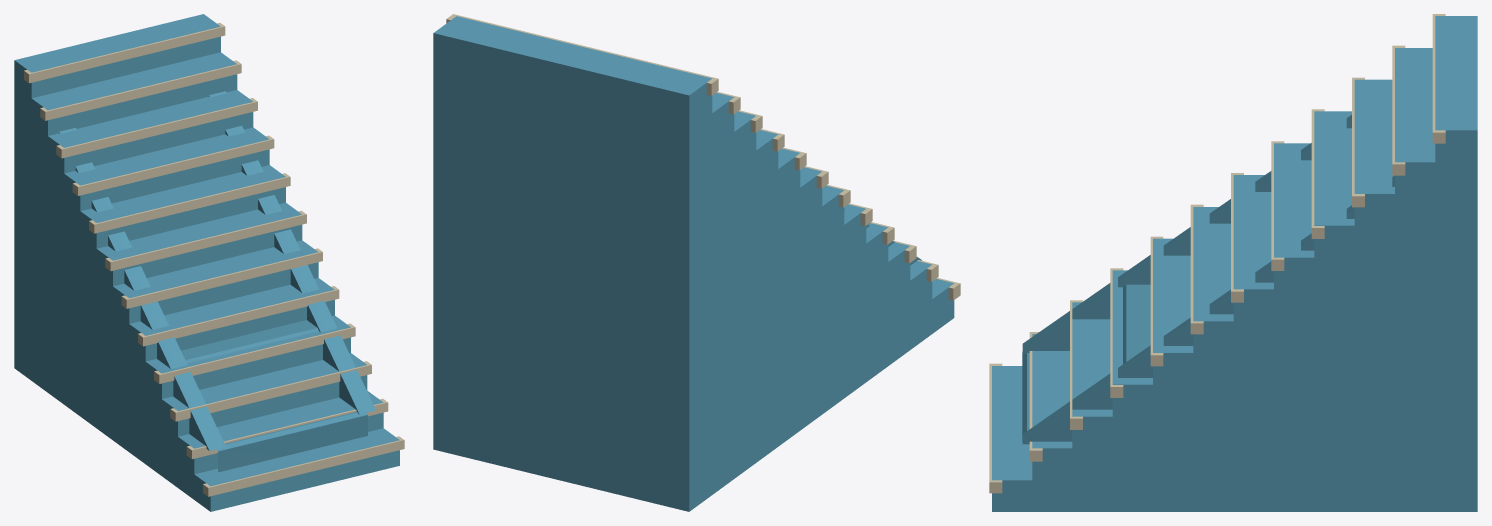
Rendered from stairs-stone-sky.glb.
3 views of the same model, side by side, from view 1: azimuth 30°, elevation 25°; view 2: azimuth 150°, elevation 25°; view 3: azimuth 270°, elevation 25° (orthographic). The views are drawn at different scales.
Visible parts, largest first — view 1: stairs-stone-sky; view 2: stairs-stone-sky; view 3: stairs-stone-sky.
Boxes of the visible parts, x1,y1,x2,y2 form: stairs-stone-sky: (14,14,404,511); stairs-stone-sky: (433,14,960,511); stairs-stone-sky: (989,14,1477,511).
Size of the model in its own units: 1.95 by 2.92 by 3.39.
